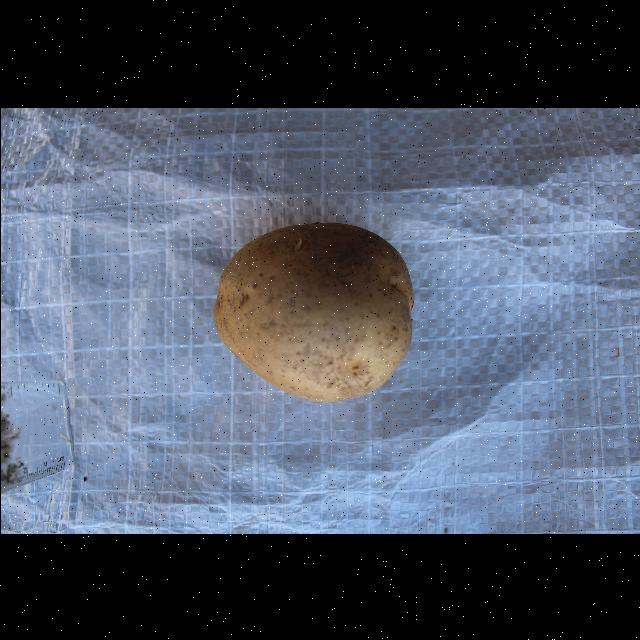Diseased-fungal potato: (212, 216, 416, 404)
